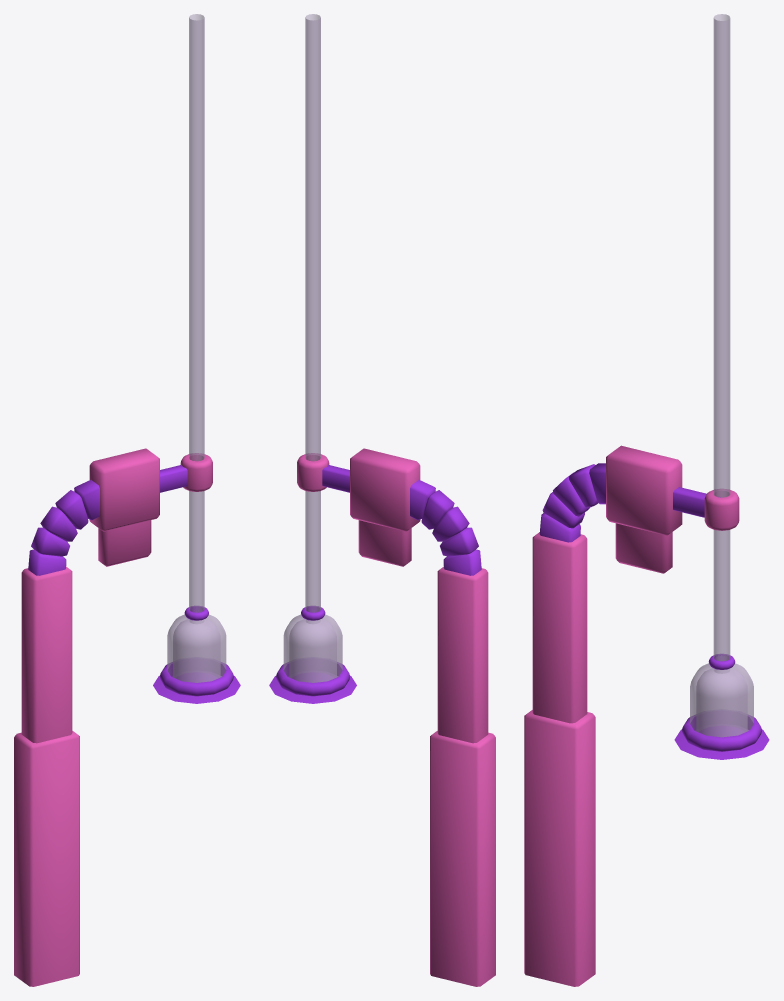
The model's file is Prop_1.fbx.
3 views of the same model, side by side, from view 1: azimuth 30°, elevation 25°; view 2: azimuth 150°, elevation 25°; view 3: azimuth 330°, elevation 25° (orthographic). The views are drawn at different scales.
Parts seen in each view (by area): view 1: Stand, Main, Derhatel, Under; view 2: Stand, Main, Derhatel, Under; view 3: Stand, Main, Derhatel, Under.
Part boxes in pixels (x1,y1,x2,y2): Stand: (14,448,159,986); Main: (160,14,233,696); Derhatel: (160,453,212,492); Under: (153,672,240,703); Stand: (350,448,495,986); Main: (276,14,349,696); Derhatel: (297,453,349,492); Under: (269,672,356,703); Stand: (524,445,682,986); Main: (682,14,761,751); Derhatel: (673,487,739,530); Under: (674,725,769,759).
Bounding box in the file's own units: 1.53 × 6.3 × 0.5457.
